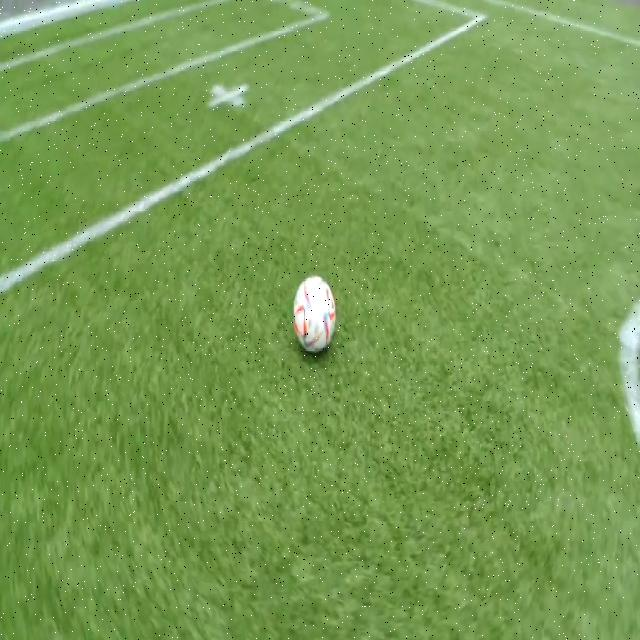ball: (294, 276, 336, 352)
